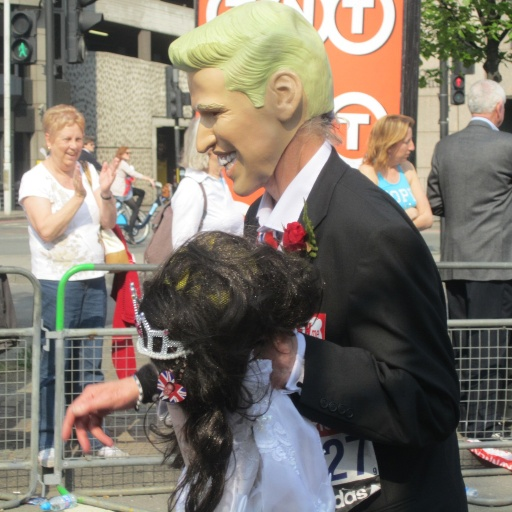hand: (64, 375, 142, 436), (253, 334, 295, 391), (97, 157, 116, 191), (71, 163, 87, 196), (162, 181, 170, 199), (147, 176, 153, 192)
